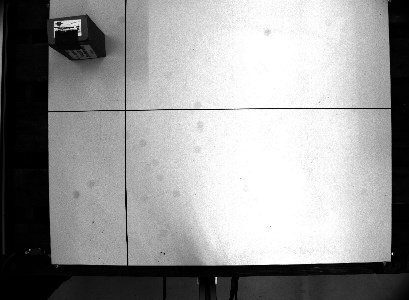b6: (43, 12, 107, 63)
